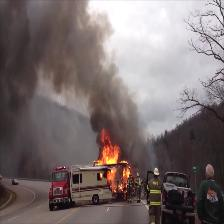fire: (96, 137, 122, 169)
smoke: (1, 4, 90, 83), (89, 84, 131, 135)
